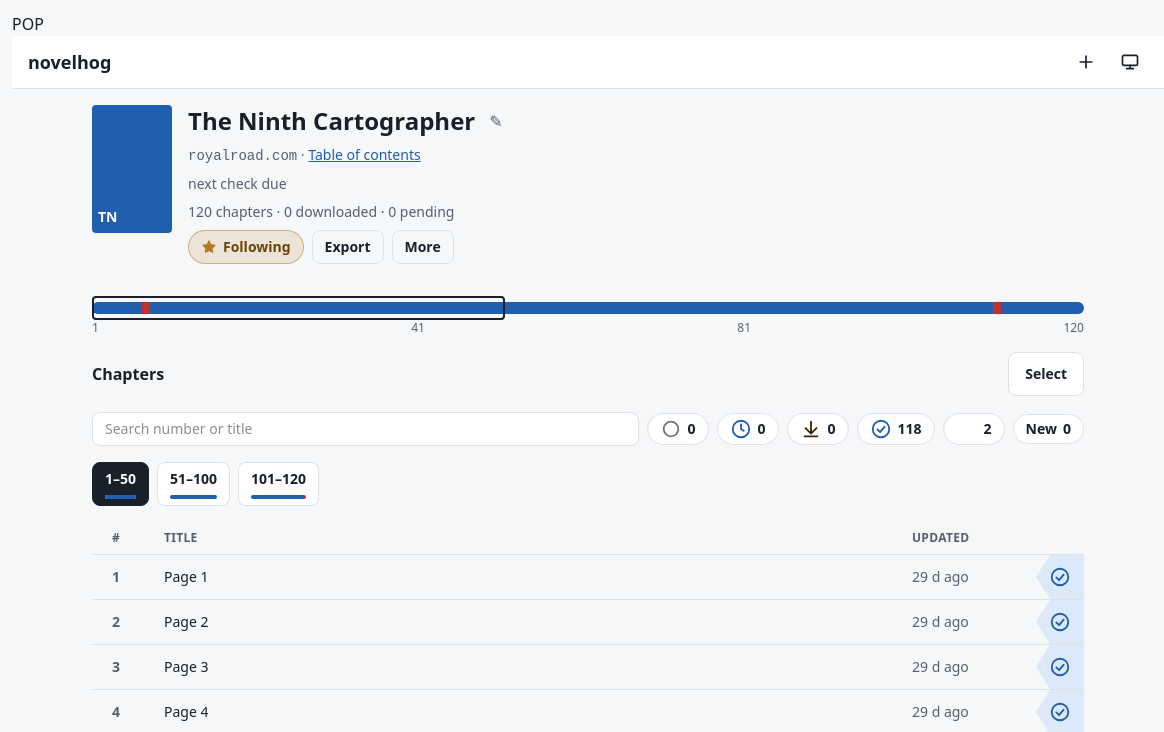
Test case: Novel page (rendered through App at /novels/:id) › shows results from all ranges under range headings while a filter is active
The image size is (1164, 732).
Click the button named "Error" at (974, 429), box left=943, top=413, right=1005, bottom=445
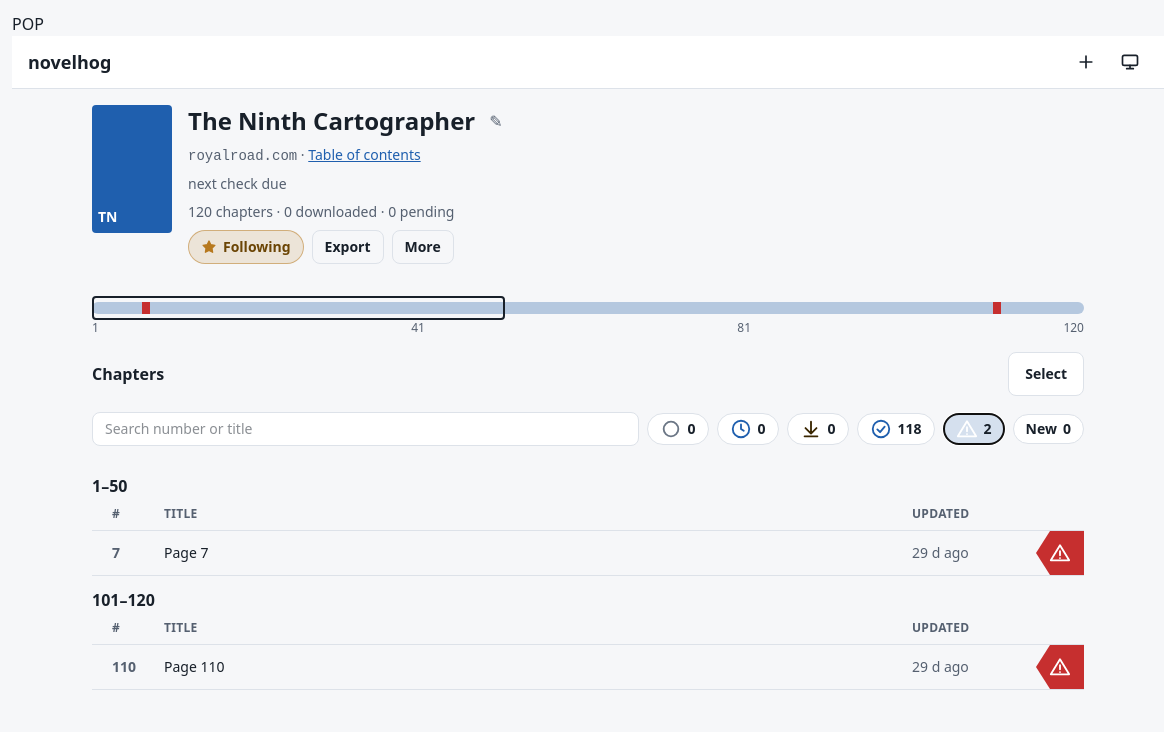
Expected: the text "Page 7" is shown, left=164, top=543, right=208, bottom=563
Expected: the headings read "1–50", "101–120", in this order, left=92, top=475, right=128, bottom=497; left=92, top=589, right=155, bottom=611
Expected: the text "Page 110" is shown, left=164, top=657, right=224, bottom=677
